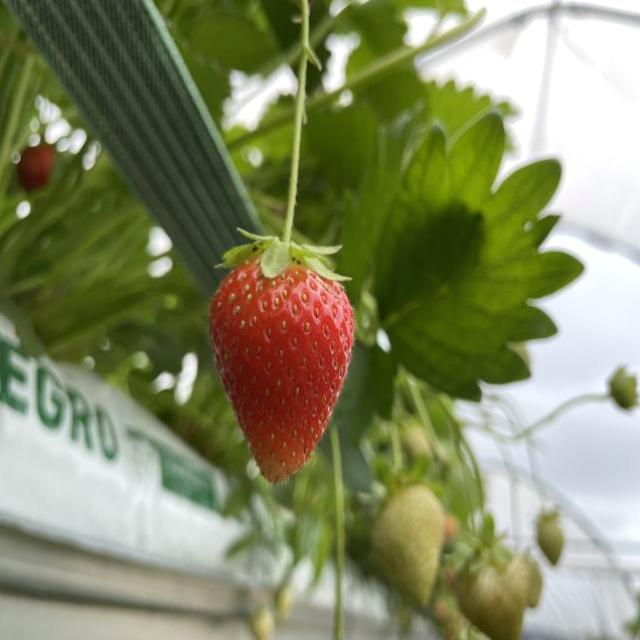stem: (221, 0, 348, 282)
strawberryR: (210, 257, 354, 483)
